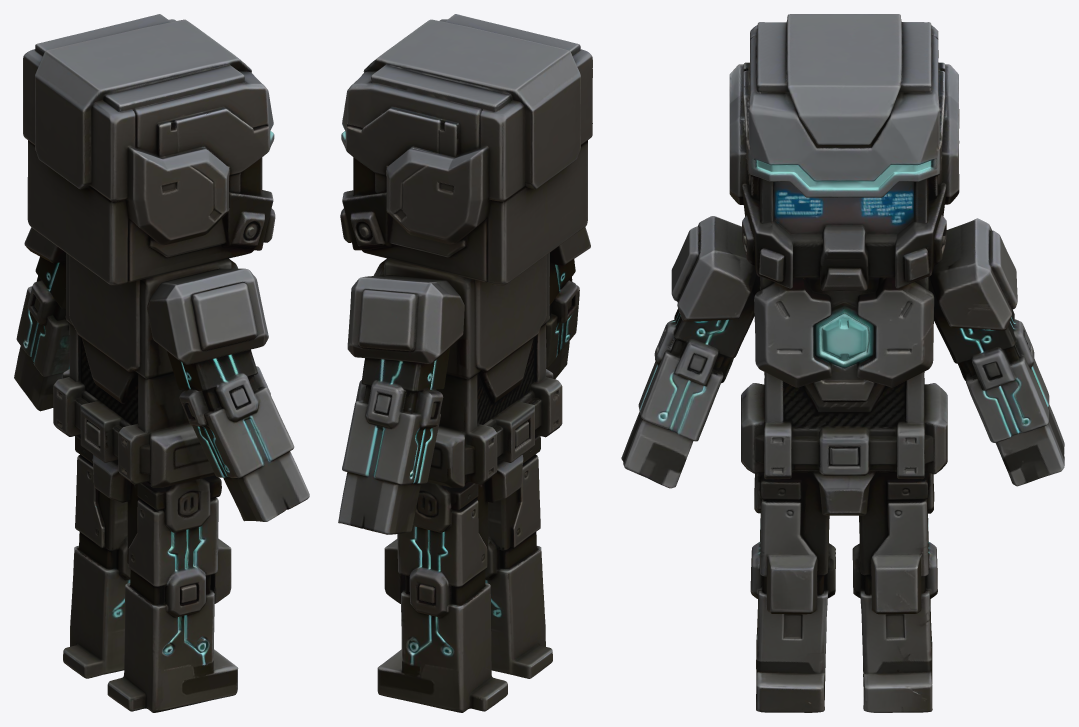
Rendered from cyber.glb.
3 views of the same model, side by side, from view 1: azimuth 30°, elevation 25°; view 2: azimuth 150°, elevation 25°; view 3: azimuth 270°, elevation 25° (orthographic). The views are drawn at different scales.
Parts seen in each view (by area): view 1: Mesh::generatedModels/hHoOHB4hZSEx2cRfxS75.gltf; view 2: Mesh::generatedModels/hHoOHB4hZSEx2cRfxS75.gltf; view 3: Mesh::generatedModels/hHoOHB4hZSEx2cRfxS75.gltf.
Part boxes in pixels (x1,y1,x2,y2): Mesh::generatedModels/hHoOHB4hZSEx2cRfxS75.gltf: [14, 14, 309, 712]; Mesh::generatedModels/hHoOHB4hZSEx2cRfxS75.gltf: [338, 14, 592, 712]; Mesh::generatedModels/hHoOHB4hZSEx2cRfxS75.gltf: [621, 14, 1064, 712].
Bounding box in the file's own units: 0.3074 × 1 × 0.6288.
1 material, 1 textured.
